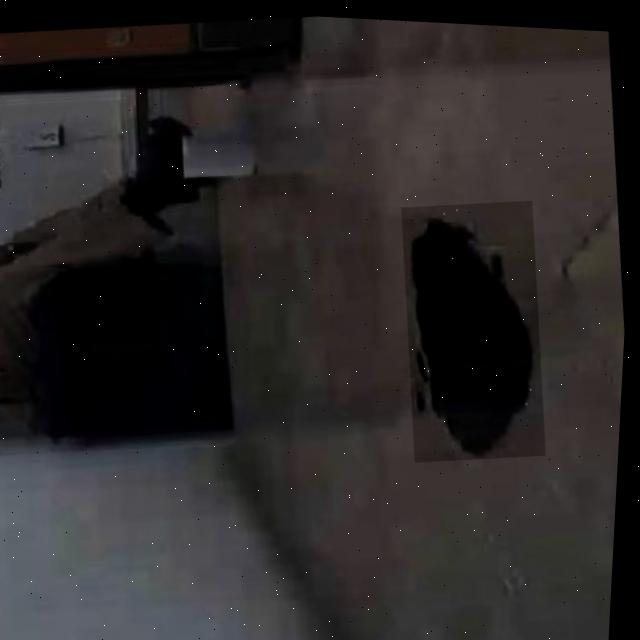spillage: (410, 201, 542, 451)
